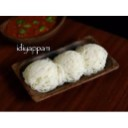idiyappam: (77, 42, 108, 72), (26, 61, 58, 89), (58, 54, 83, 79)
